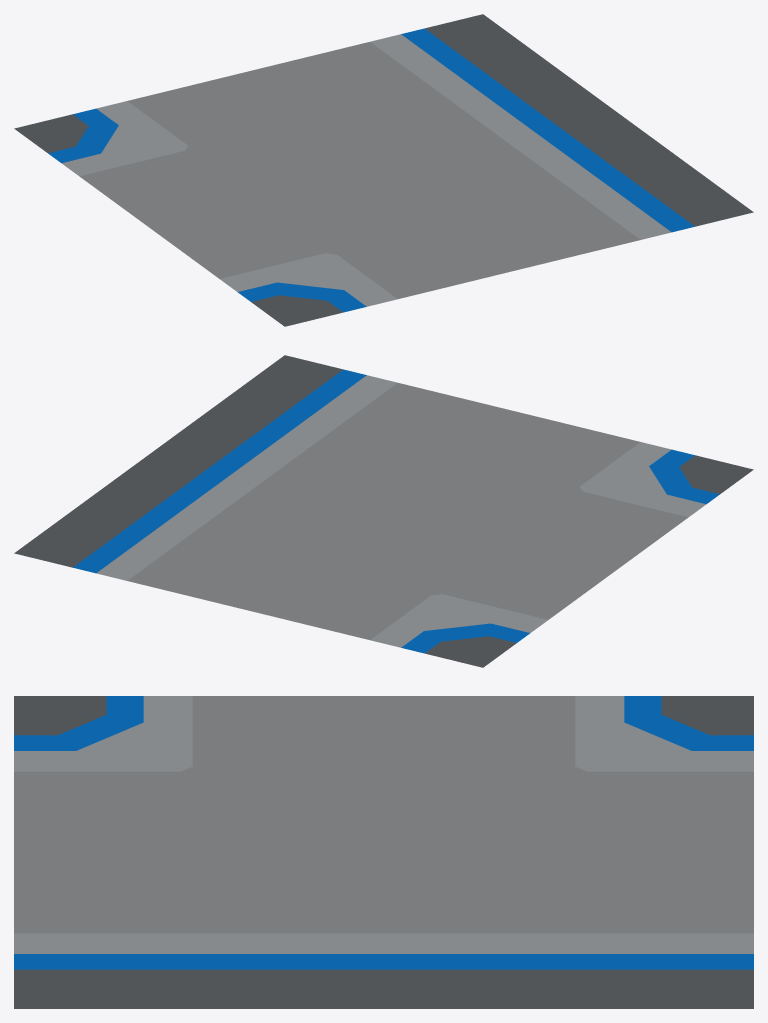
The model's file is Ceiling_type_B_052.012.fbx.
3 renders of one model, top to bottom at view 1: azimuth 30°, elevation 25°; view 2: azimuth 150°, elevation 25°; view 3: azimuth 270°, elevation 25°, orthographic. The views are drawn at different scales.
Parts seen in each view (by area): view 1: Ceiling_type_B_052.012; view 2: Ceiling_type_B_052.012; view 3: Ceiling_type_B_052.012.
Part boxes in pixels (box(x1,y1,x2,y2)): Ceiling_type_B_052.012: box(14, 14, 753, 326); Ceiling_type_B_052.012: box(14, 355, 753, 667); Ceiling_type_B_052.012: box(14, 696, 753, 1008).
Size of the model in its own units: 400 by 400 by 3.5.
